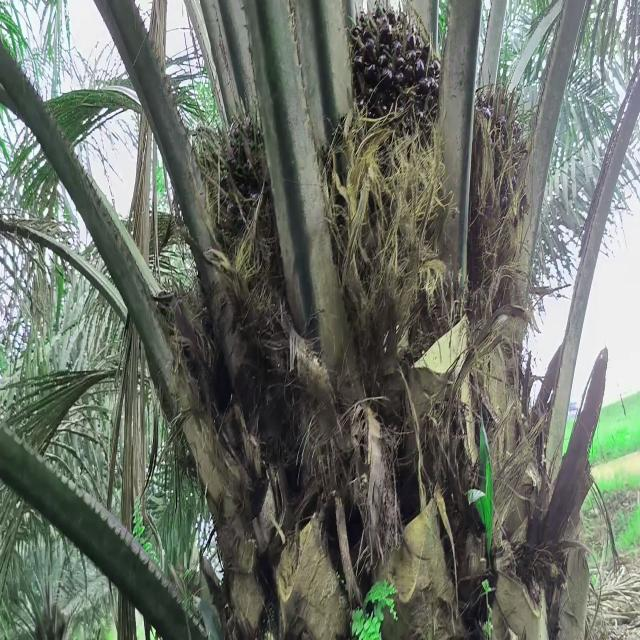palm-oil: (341, 8, 453, 166)
